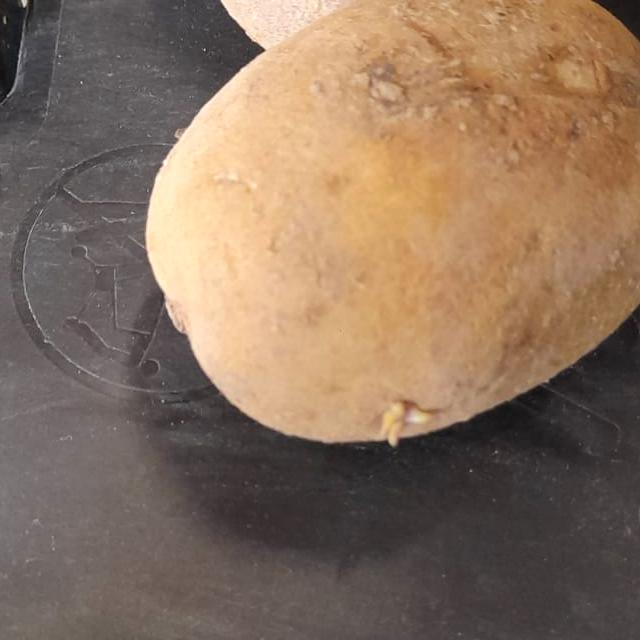potato: (110, 0, 640, 453)
